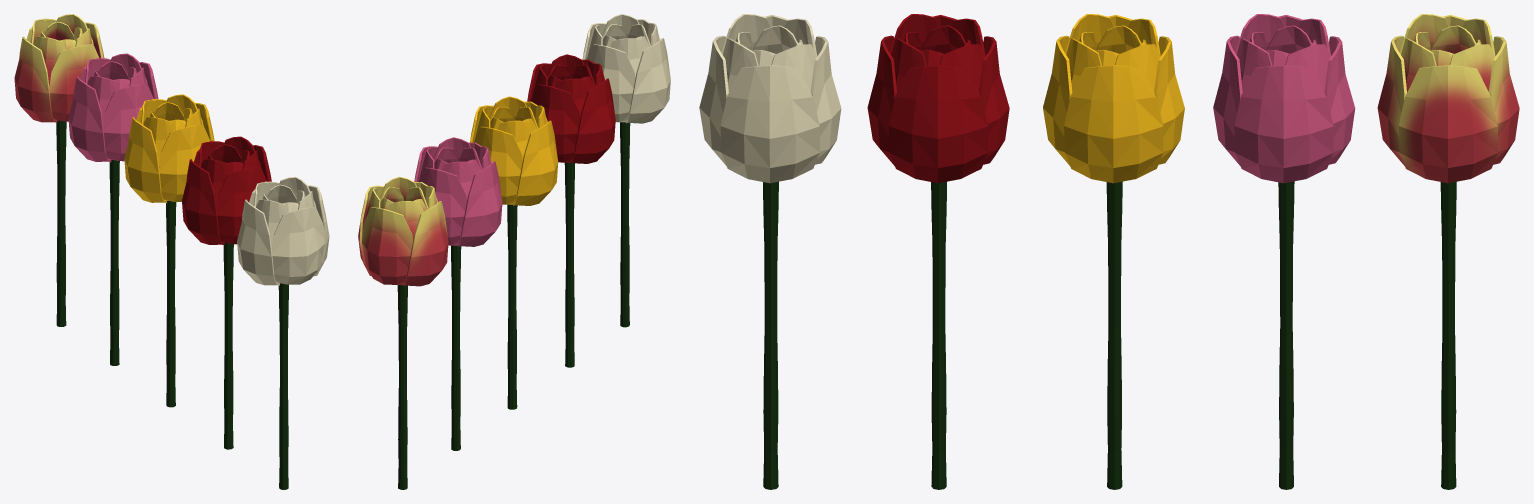
The model's file is tulips.obj.
The picture shows the model from 3 angles, left to right: view 1: azimuth 30°, elevation 25°; view 2: azimuth 150°, elevation 25°; view 3: azimuth 270°, elevation 25°; orthographic projection. The views are drawn at different scales.
Size of the model in its own units: 1.31 by 4.41 by 7.18.
Materials: 7 (1 with a texture image).
